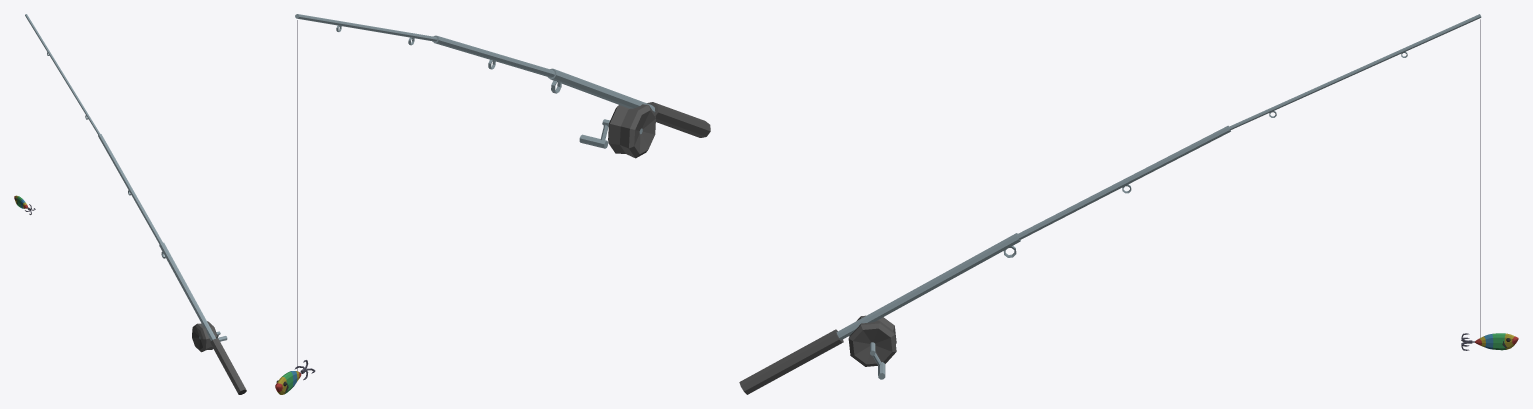
The model's file is fishing_rod.glb.
3 renders of one model, left to right at view 1: azimuth 30°, elevation 25°; view 2: azimuth 150°, elevation 25°; view 3: azimuth 270°, elevation 25°, orthographic. The views are drawn at different scales.
Parts seen in each view (by area): view 1: fish_rod; view 2: fish_rod, Lure_4; view 3: fish_rod, Lure_4.
Part boxes in pixels (x1,y1,x2,y2): fish_rod: (25,14,246,394); fish_rod: (295,14,710,158); Lure_4: (275,360,315,394); fish_rod: (739,14,1481,394); Lure_4: (1461,333,1518,350).
Size of the model in its own units: 2 by 13.66 by 25.38.
